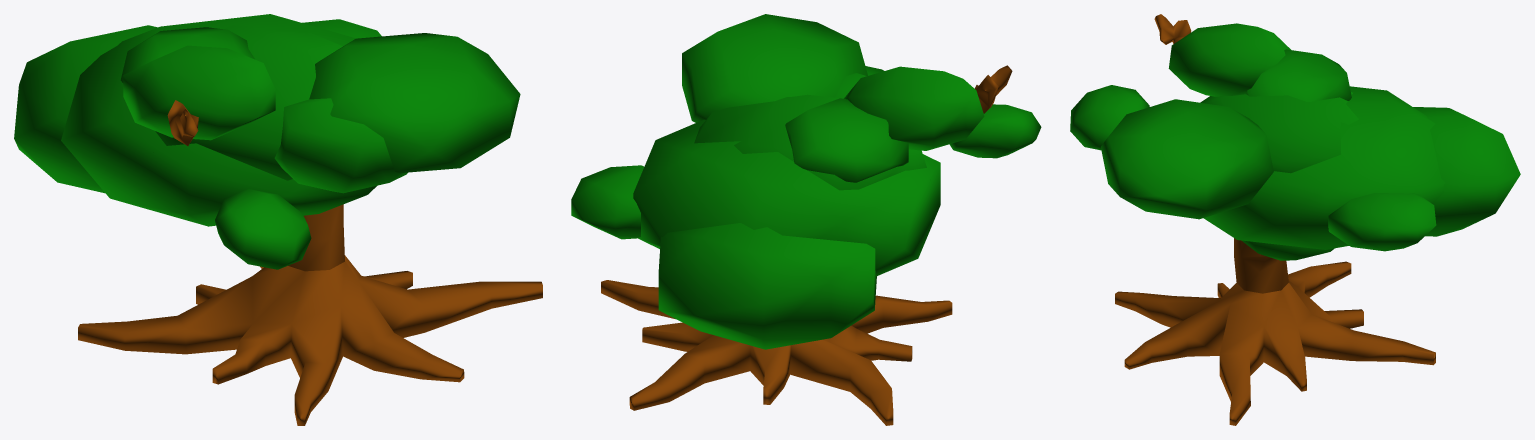
Rendered from tree_AllAges_comic.FBX.
3 views of the same model, side by side, from view 1: azimuth 30°, elevation 25°; view 2: azimuth 150°, elevation 25°; view 3: azimuth 270°, elevation 25° (orthographic). The views are drawn at different scales.
Visible parts, largest first — view 1: Tree_AllAges_comic; view 2: Tree_AllAges_comic; view 3: Tree_AllAges_comic.
Boxes of the visible parts, x1,y1,x2,y2 form: Tree_AllAges_comic: (14, 14, 542, 425); Tree_AllAges_comic: (571, 14, 1041, 425); Tree_AllAges_comic: (1070, 14, 1520, 425).
Bounding box in the file's own units: 21.7 × 25.48 × 16.18.
